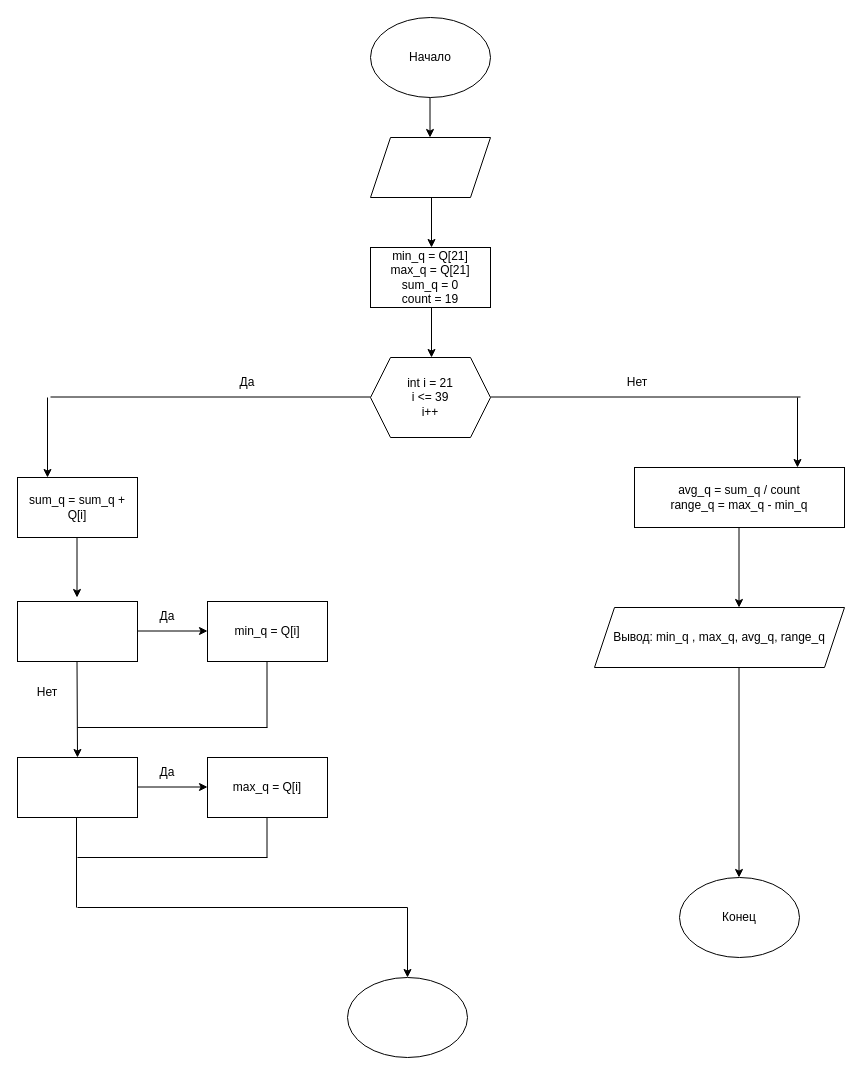
This 862x1075 diagram has some shape labels left out. The box of each missing label's shape, as (x1, y1, x2, y2) in pixels:
Q[i] < min_q: (16, 600, 138, 662)
Q[i] > max_q: (16, 756, 138, 818)
диапазон [1...70]: (370, 136, 490, 198)
Обратно в цикл: (346, 976, 468, 1058)
